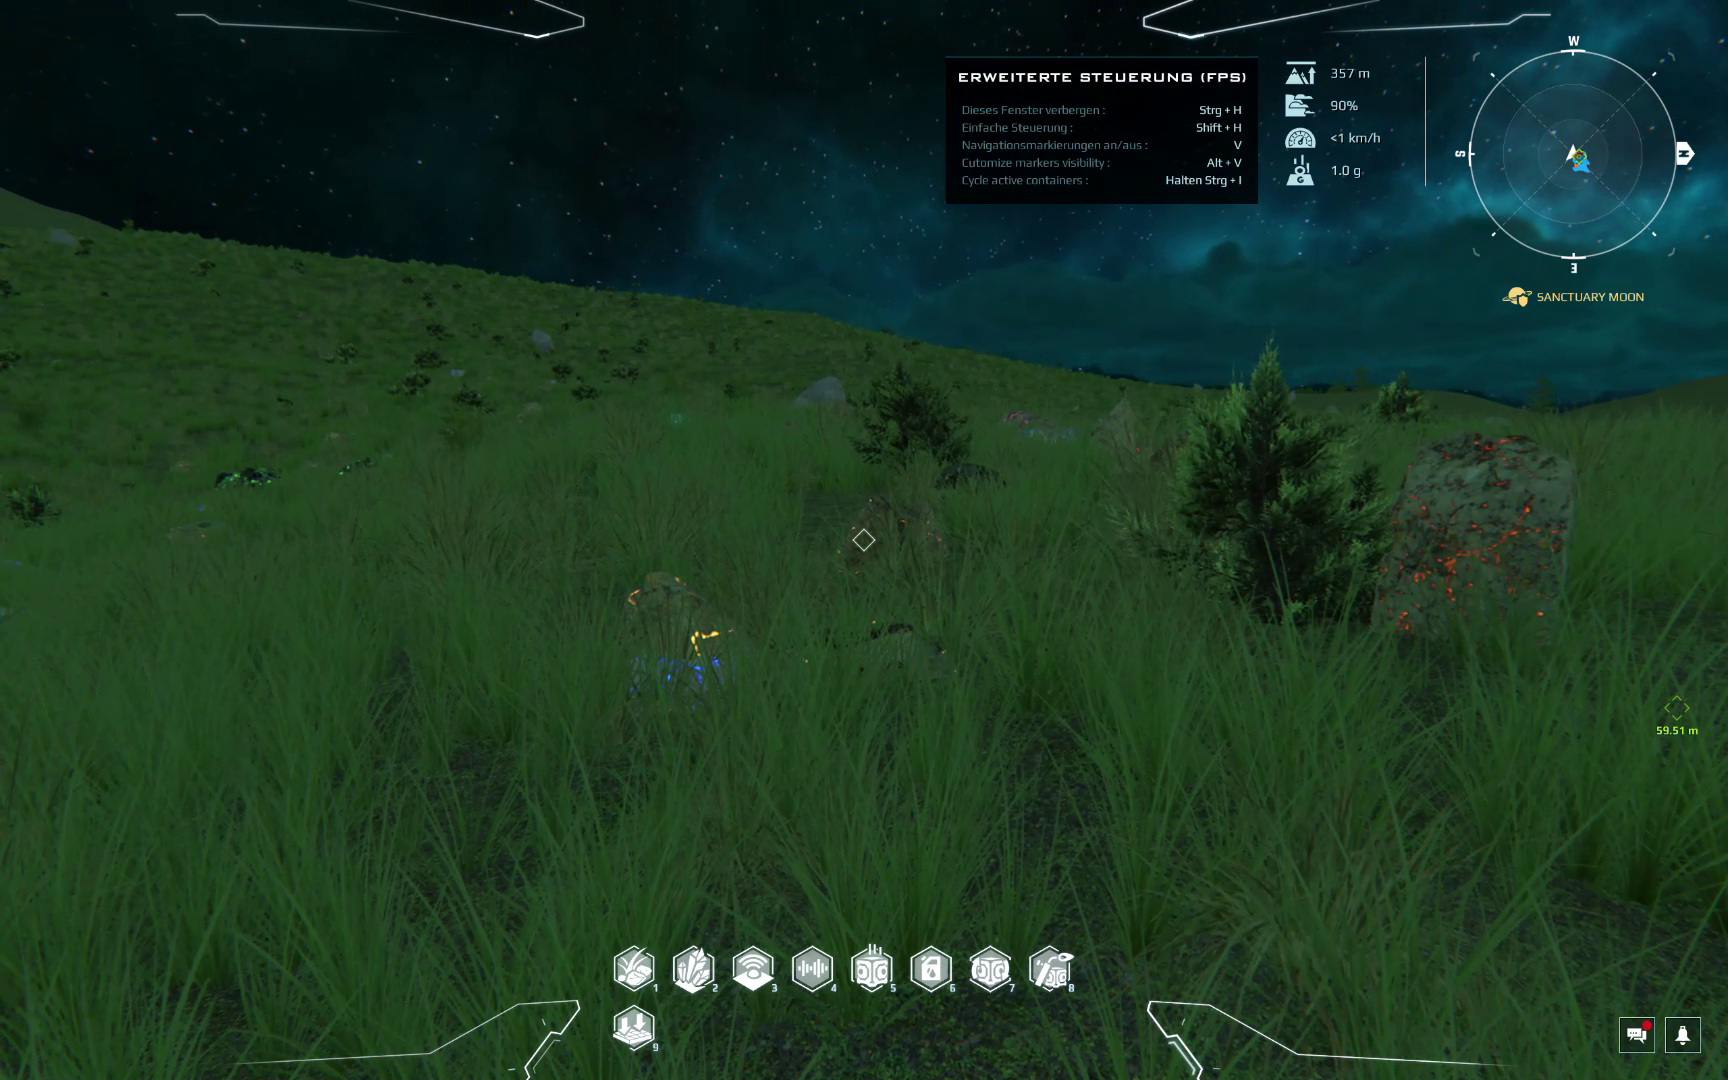Ore: (1362, 428, 1575, 654), (832, 482, 950, 598), (611, 574, 759, 654), (617, 640, 741, 710), (210, 464, 280, 494), (160, 515, 221, 547), (996, 404, 1044, 431), (328, 459, 369, 484), (1115, 437, 1147, 459)
